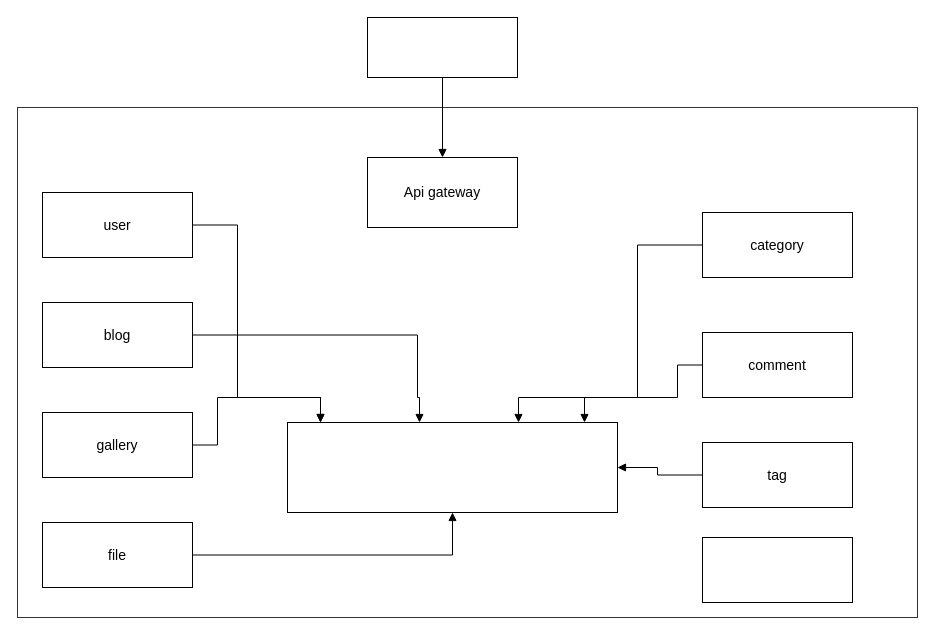
Image size: 935x635. Some labels were removed from this diagram. Each missing label, with the centre of its shape:
aggregation: point 777,569
client: point 442,47
database: point 452,467
